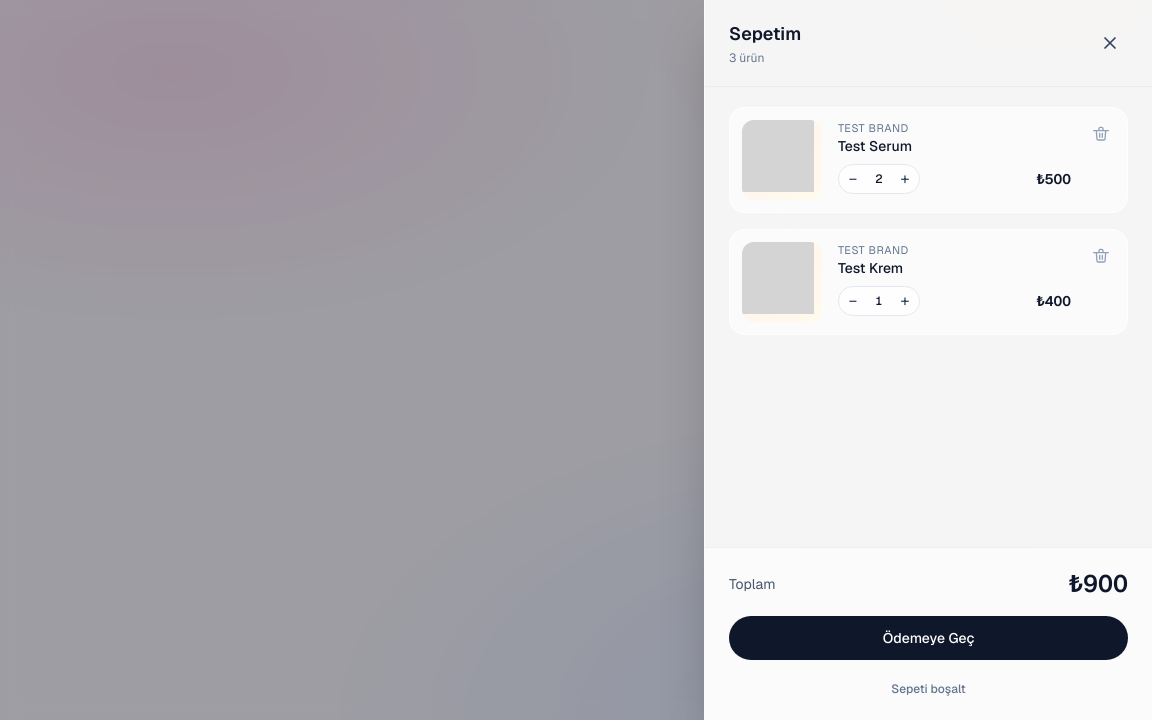
it: CartDrawer › sepeti tamamen boşaltır
The image size is (1152, 720).
Click the button "Sepeti boşalt" at (928, 689), box [729,681,1128,697]
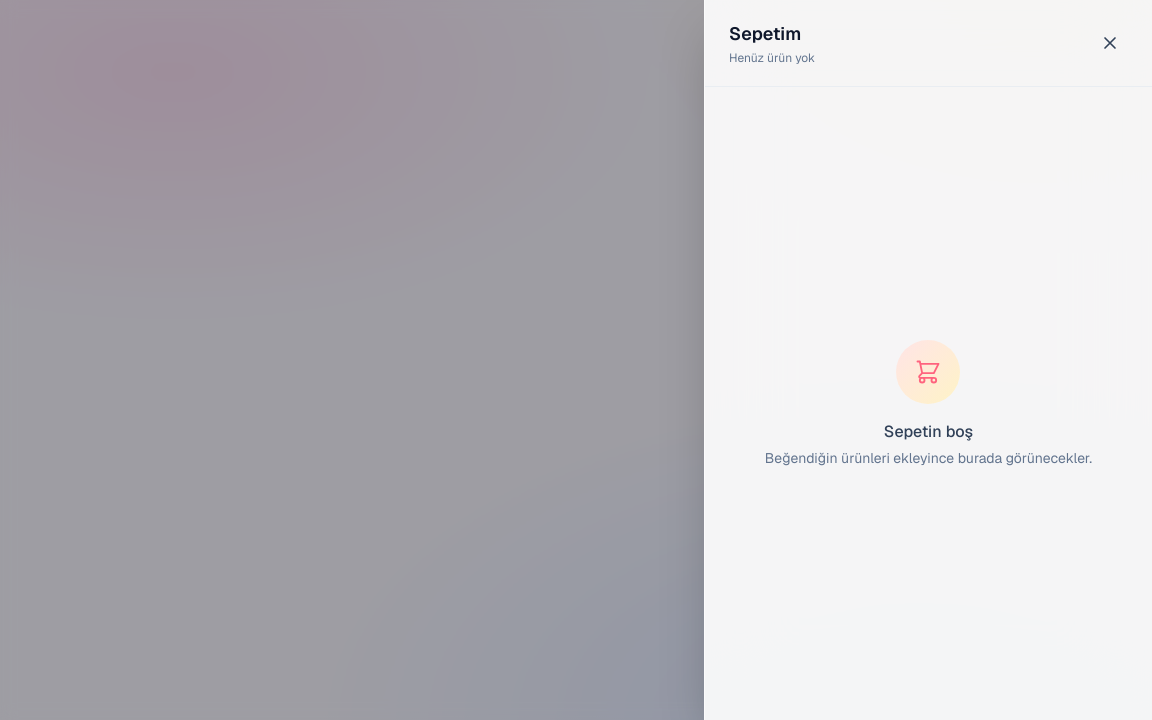
Expected: the text "Sepetin boş" is shown, [884,420,973,442]
